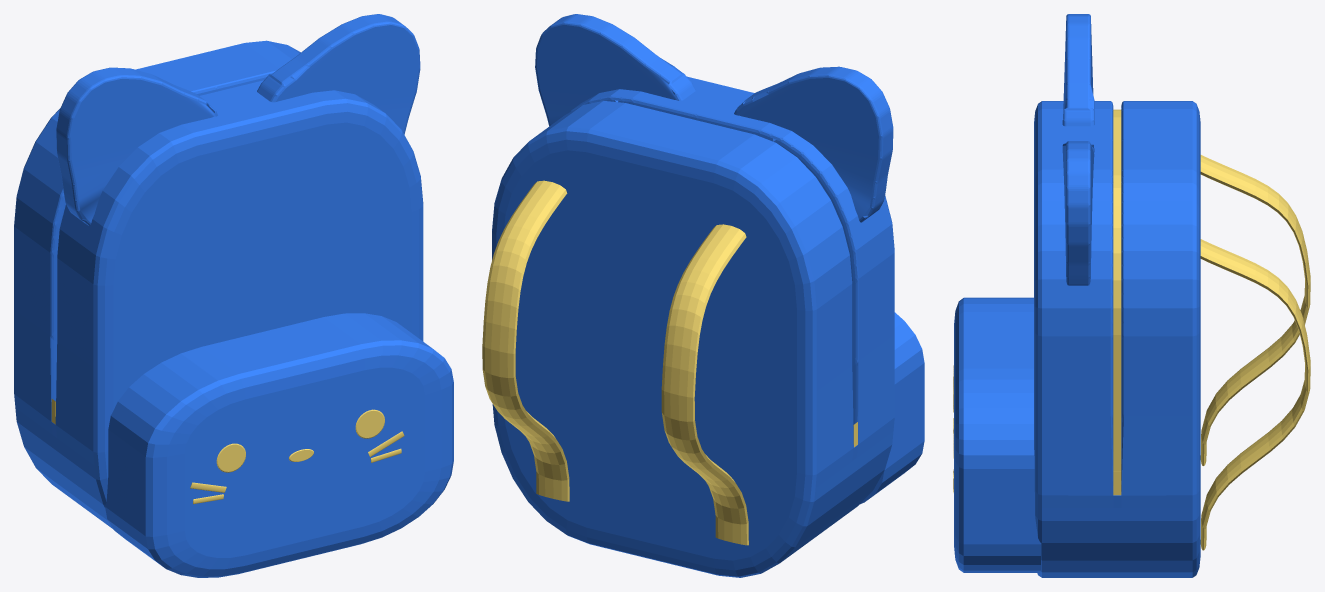
Rendered from Backpack 02.fbx.
3 renders of one model, left to right at view 1: azimuth 30°, elevation 25°; view 2: azimuth 150°, elevation 25°; view 3: azimuth 270°, elevation 25°, orthographic. The views are drawn at different scales.
Parts seen in each view (by area): view 1: Backpack; view 2: Backpack; view 3: Backpack.
Boxes of the visible parts, x1,y1,x2,y2 form: Backpack: (14,14,453,577); Backpack: (482,14,924,577); Backpack: (953,14,1310,577).
Bounding box in the file's own units: 29.25 × 38.25 × 27.
